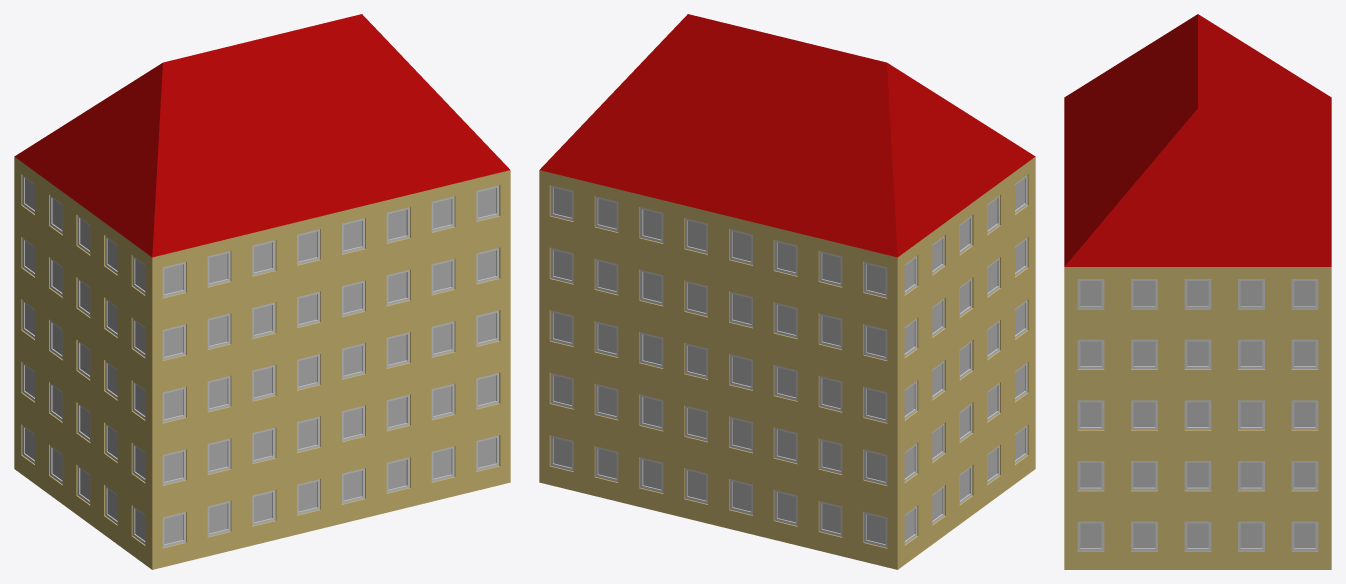
The picture shows the model from 3 angles, left to right: view 1: azimuth 30°, elevation 25°; view 2: azimuth 150°, elevation 25°; view 3: azimuth 270°, elevation 25°; orthographic projection. The views are drawn at different scales.
Visible parts, largest first — view 1: Building w0; view 2: Building w0; view 3: Building w0.
Part boxes in pixels (bbox=[...]): Building w0: bbox=[14, 14, 510, 569]; Building w0: bbox=[539, 14, 1035, 569]; Building w0: bbox=[1064, 14, 1331, 569].
Size of the model in its own units: 15 by 17.5 by 10.
